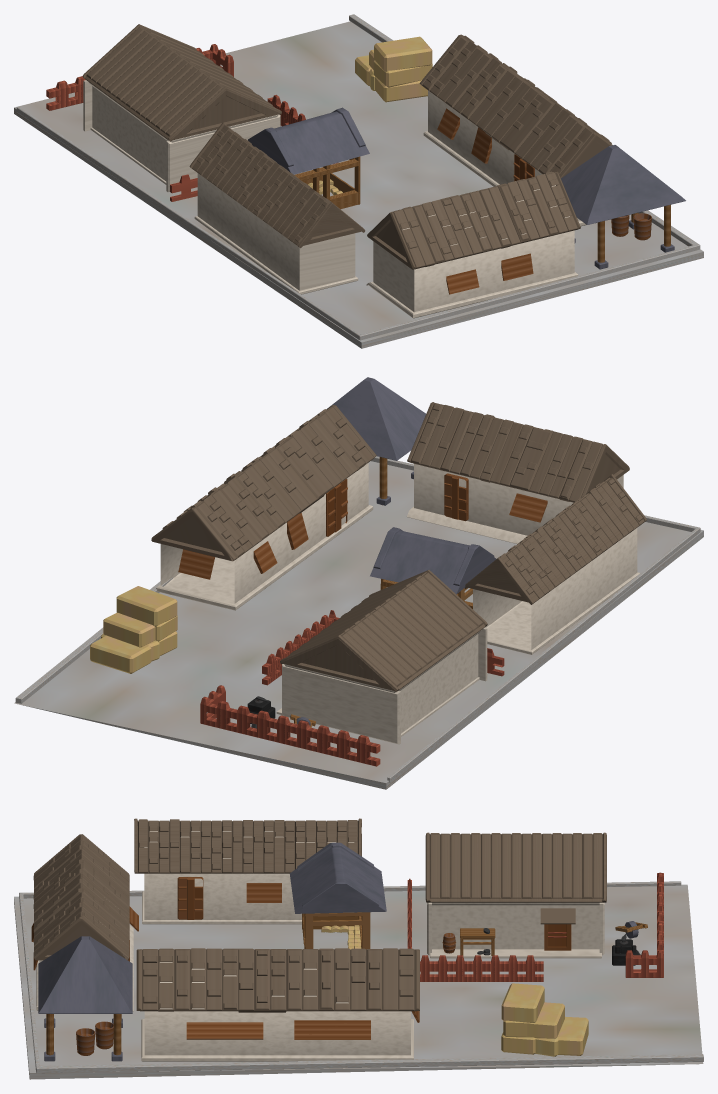
3 renders of one model, top to bottom at view 1: azimuth 30°, elevation 25°; view 2: azimuth 150°, elevation 25°; view 3: azimuth 270°, elevation 25°, orthographic. The views are drawn at different scales.
Parts seen in each view (by area): view 1: diji, tiejiangpuding, youfangding, zuofangding, qianfang, zuofangding1, zuofang1, tiejiangpu, caowuding, bianyuan, zuofang_xiao, youfang (+8 smaller); view 2: diji, youfangding, tiejiangpuding, zuofangding, tiejiangpu, zuofangding1, zuofang1, youfang, qianfang, teijiangpuzhalan2, zuofang_xiao, caowuding (+9 smaller); view 3: diji, youfangding, tiejiangpuding, youfang, zuofangding1, zuofangding, bianyuan, tiejiangpu, zuofang1, caowuding, zuofang_xiao, tiejiangpuzhalan1 (+19 smaller).
Part boxes in pixels (<box>): diji: <box>14,21,703,348</box>; tiejiangpuding: <box>82,24,281,141</box>; youfangding: <box>419,34,612,177</box>; zuofangding: <box>367,171,580,269</box>; qianfang: <box>366,185,578,318</box>; zuofangding1: <box>189,122,365,248</box>; zuofang1: <box>194,173,358,294</box>; tiejiangpu: <box>83,80,280,191</box>; caowuding: <box>561,145,685,224</box>; bianyuan: <box>16,14,700,340</box>; zuofang_xiao: <box>248,107,369,174</box>; youfang: <box>423,90,586,226</box>; diji: <box>14,461,703,789</box>; youfangding: <box>151,405,376,561</box>; tiejiangpuding: <box>280,570,487,691</box>; zuofangding: <box>407,402,629,502</box>; tiejiangpu: <box>282,627,487,744</box>; zuofangding1: <box>465,474,646,604</box>; zuofang1: <box>473,528,640,654</box>; youfang: <box>156,463,373,610</box>; qianfang: <box>407,464,623,543</box>; teijiangpuzhalan2: <box>200,685,380,766</box>; zuofang_xiao: <box>370,527,496,594</box>; caowuding: <box>327,377,425,460</box>; diji: <box>14,884,703,1079</box>; youfangding: <box>136,948,419,1012</box>; tiejiangpuding: <box>425,832,606,902</box>; youfang: <box>141,962,413,1061</box>; zuofangding1: <box>134,818,361,873</box>; zuofangding: <box>33,834,129,960</box>; bianyuan: <box>19,881,703,1073</box>; tiejiangpu: <box>427,902,604,955</box>; zuofang1: <box>142,831,354,924</box>; caowuding: <box>38,936,132,1013</box>; zuofang_xiao: <box>289,842,386,913</box>; tiejiangpuzhalan1: <box>407,878,543,981</box>.
Bounding box in the file's own units: 1256 × 344 × 1954.
